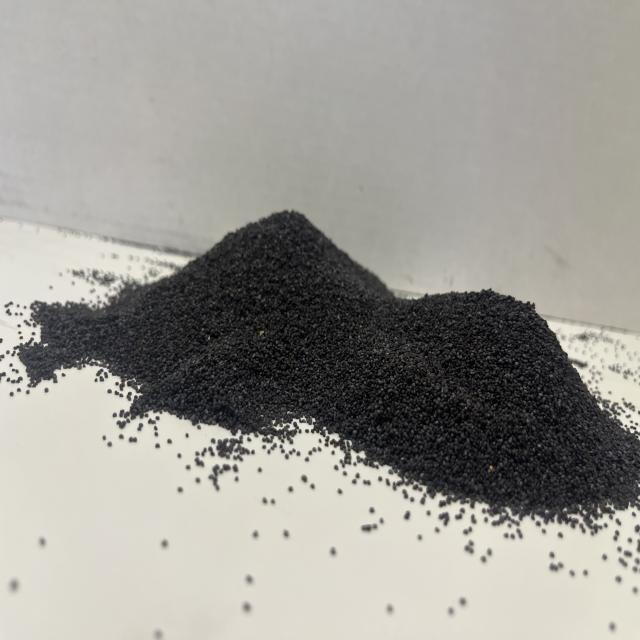Poppy Seeds: (59, 154, 628, 538)
